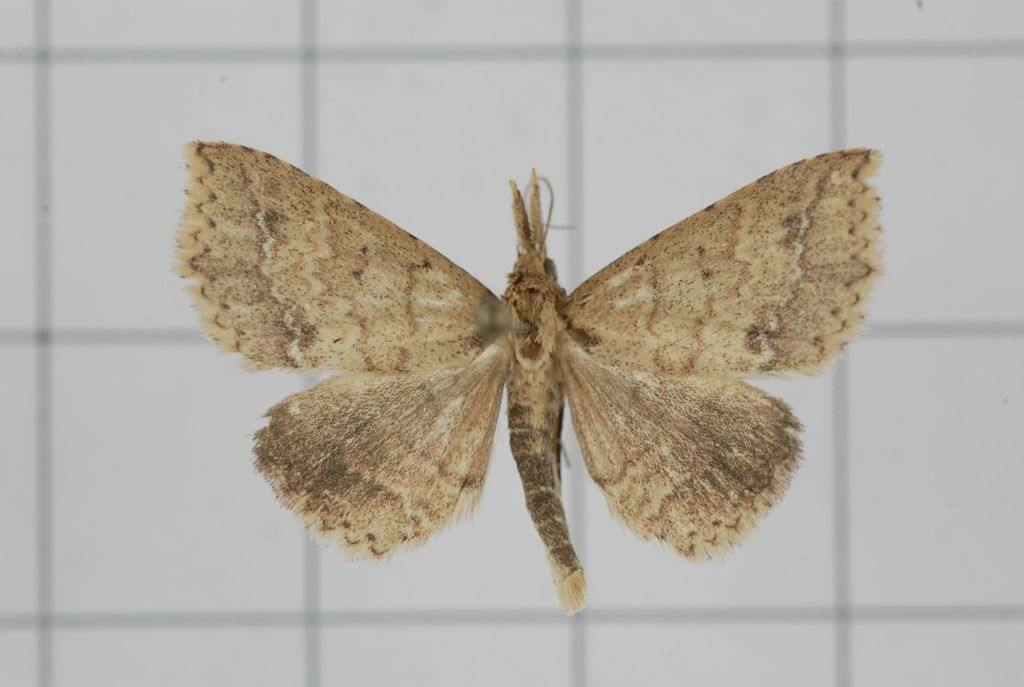Butterfly: (154, 113, 931, 623)
